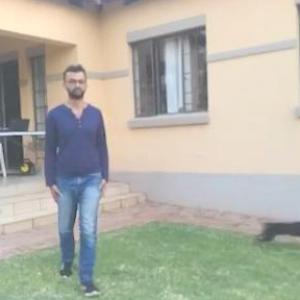follow: (47, 71, 112, 274)
